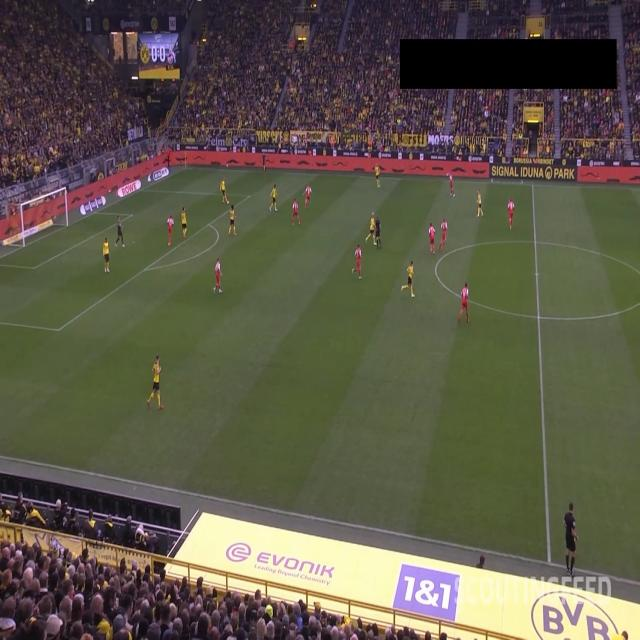ball: (227, 200, 230, 205)
f_player: (145, 353, 164, 410), (456, 279, 471, 327), (400, 258, 416, 300), (350, 241, 364, 282), (211, 256, 224, 296), (364, 209, 377, 248), (437, 217, 449, 254), (226, 202, 238, 238), (426, 220, 437, 257), (114, 213, 125, 249), (102, 235, 111, 276), (506, 196, 516, 232), (219, 174, 230, 206), (302, 181, 314, 210), (290, 196, 301, 227), (268, 182, 278, 214), (446, 170, 456, 199), (180, 204, 188, 240), (166, 213, 174, 248), (374, 161, 382, 190), (476, 189, 484, 218)
umpire: (374, 213, 382, 252)
